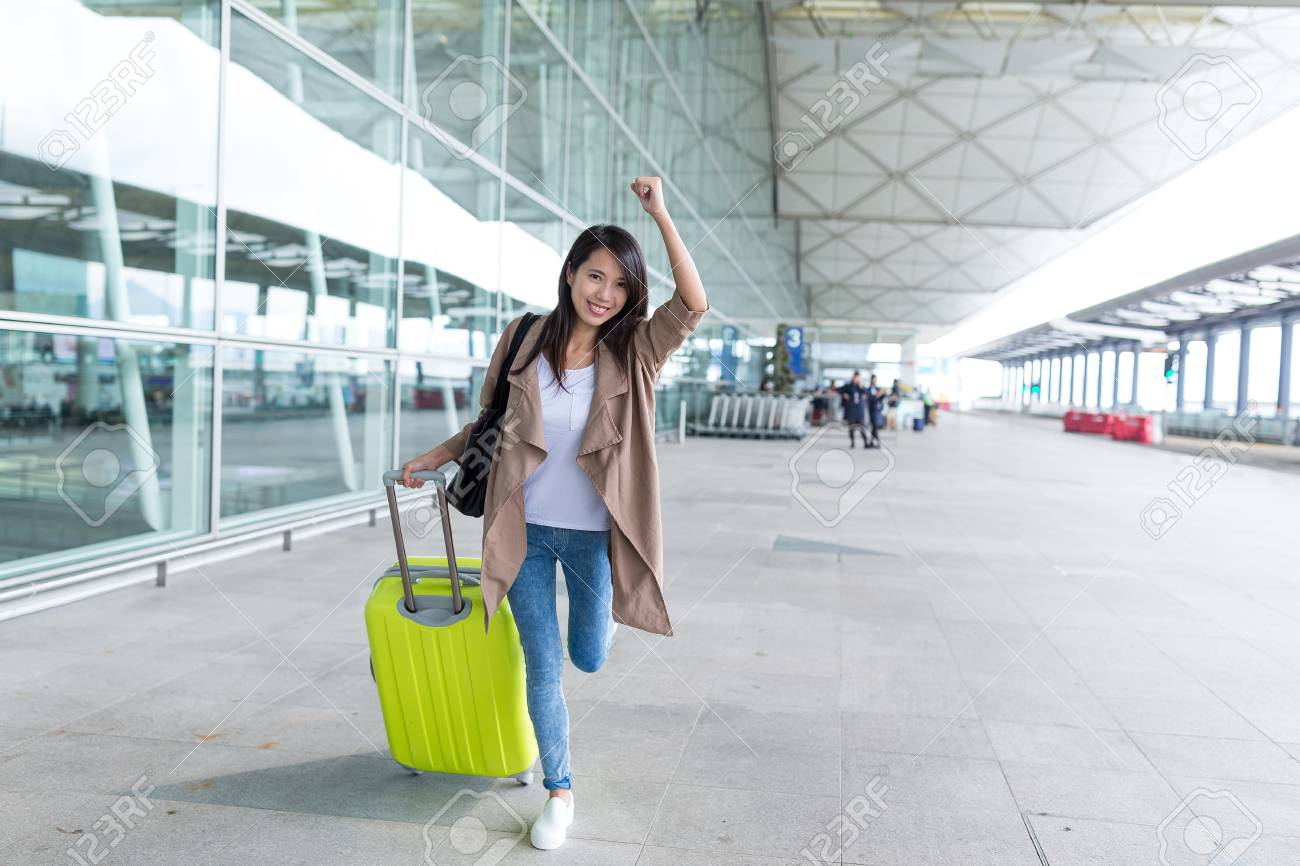luggage: (362, 465, 554, 793)
people: (407, 163, 716, 866)
